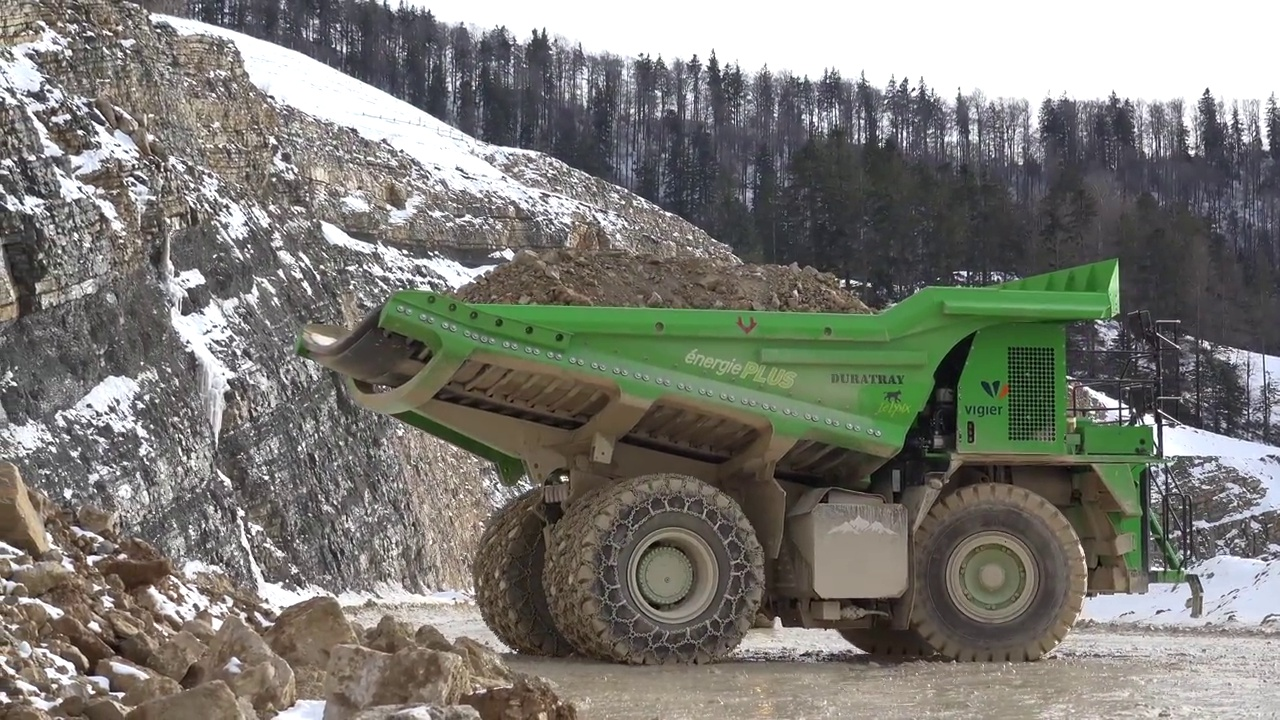dumper: (292, 256, 1207, 660)
